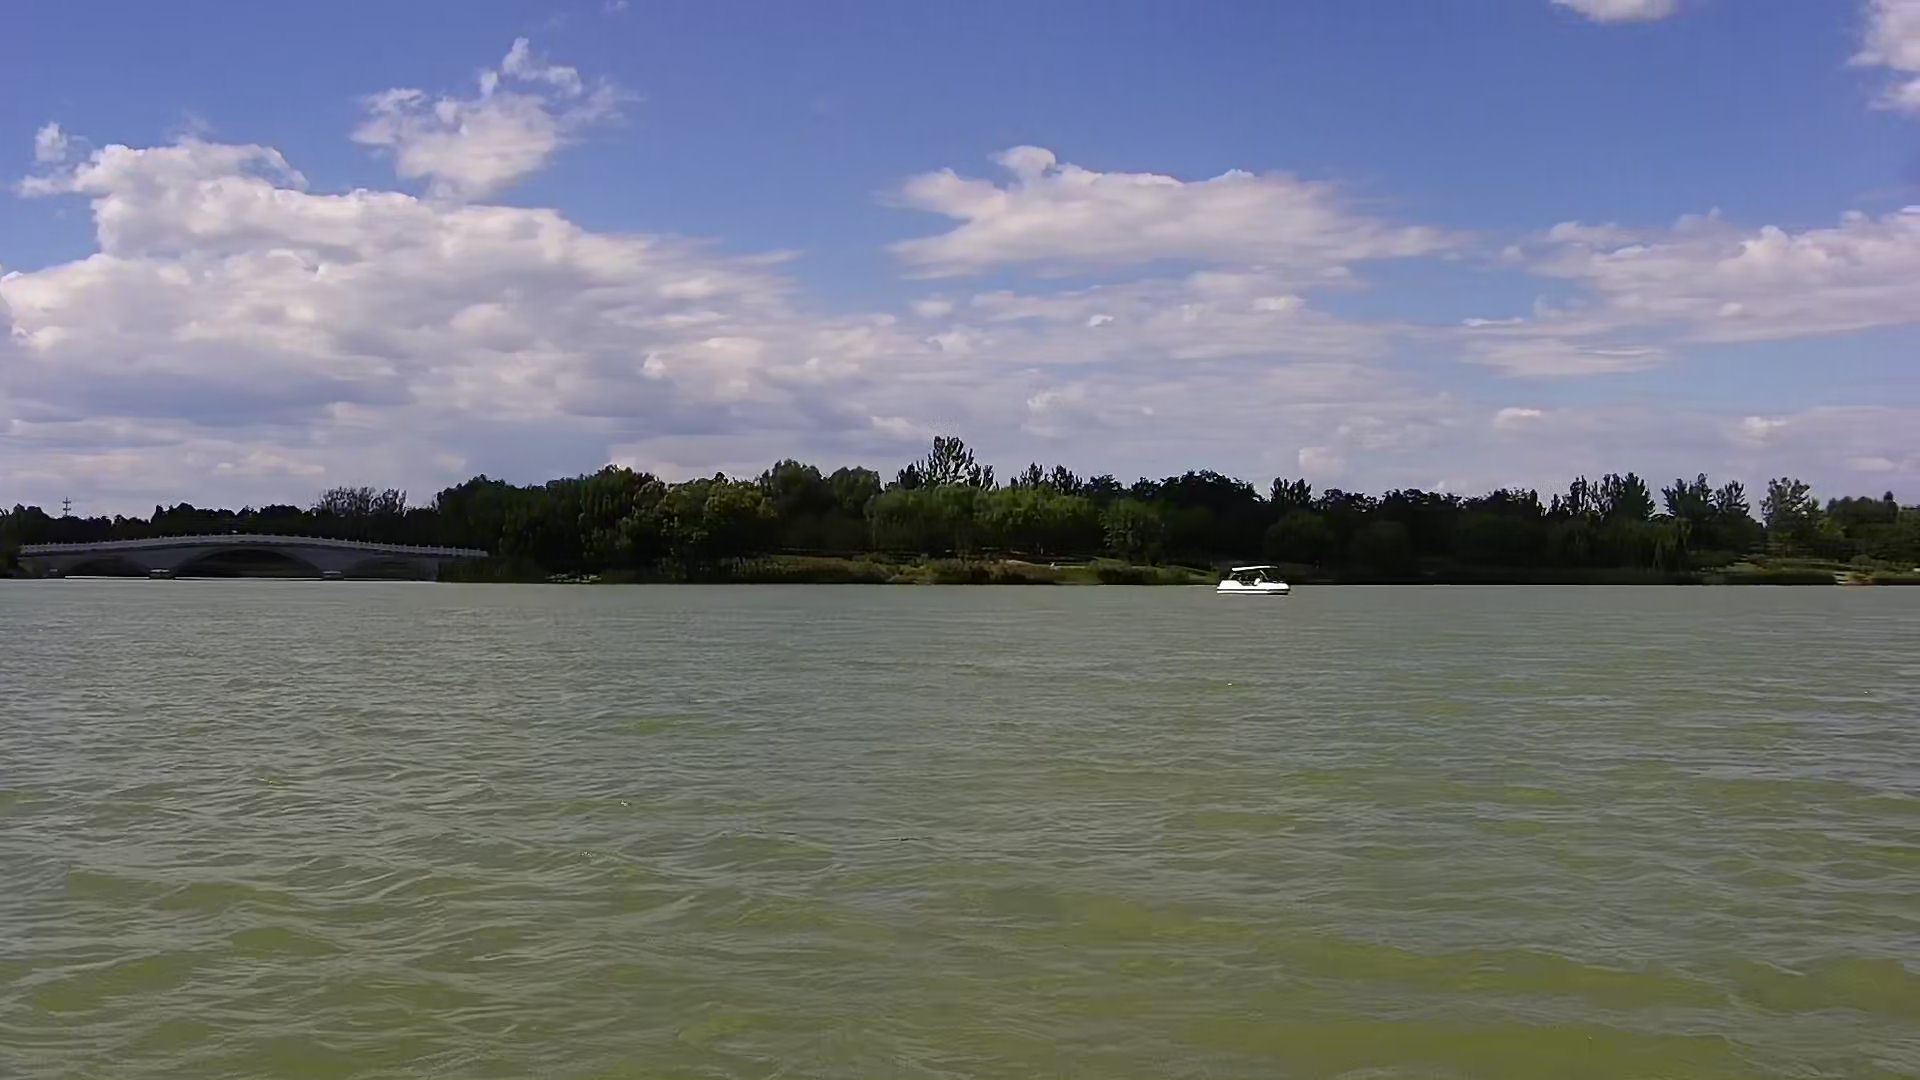boat: (1215, 558, 1299, 603)
bridge: (18, 531, 455, 585)
